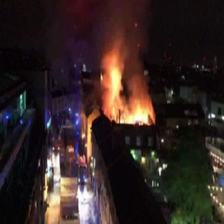fire: (95, 39, 160, 130)
